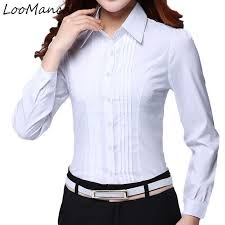F_belt: (63, 170, 174, 199)
F_shirt: (7, 13, 223, 219)
